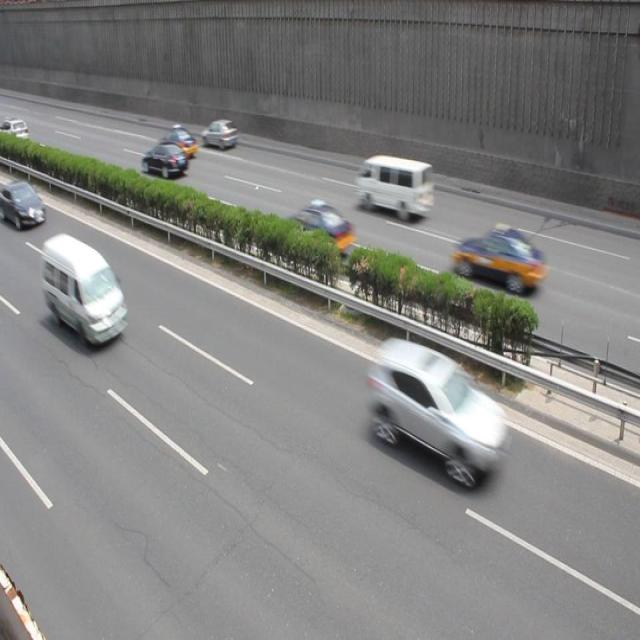car: (364, 335, 506, 485), (450, 230, 546, 294), (283, 203, 356, 258), (1, 180, 45, 230), (142, 142, 187, 180), (158, 124, 197, 162), (201, 118, 237, 150)
truck: (42, 232, 128, 349), (354, 155, 434, 221)
